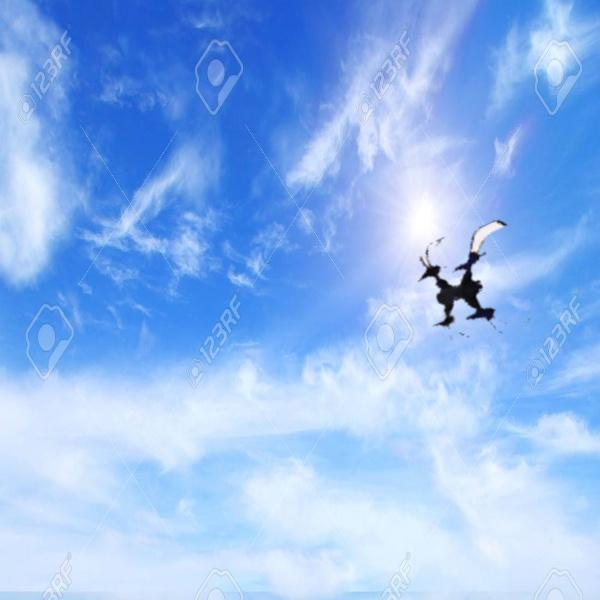drone: (411, 223, 541, 353)
